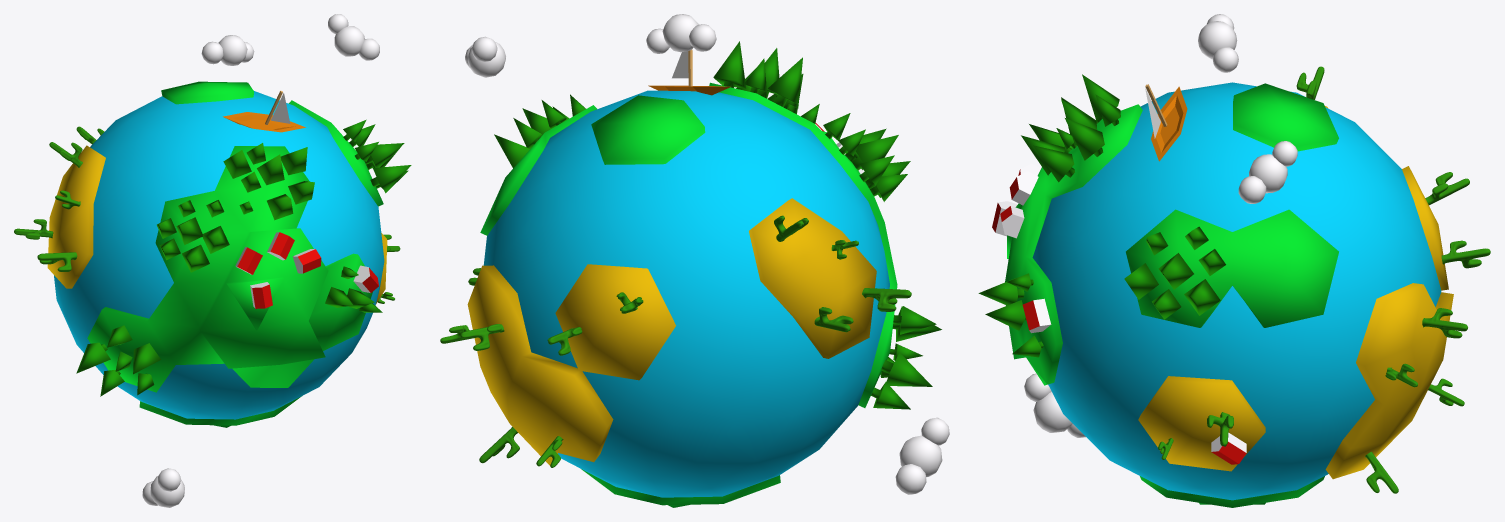
File: loginEarth.glb
The picture shows the model from 3 angles, left to right: view 1: azimuth 30°, elevation 25°; view 2: azimuth 150°, elevation 25°; view 3: azimuth 270°, elevation 25°; orthographic projection. The views are drawn at different scales.
Parts seen in each view (by area): view 1: 아이코스피어.001, 아이코스피어, boatBody, 아이코스피어.008, 아이코스피어.002, 아이코스피어.005, tree.016, tree.026, tree.023, tree.003, tree.002, house.005 (+13 smaller); view 2: 아이코스피어.001, 아이코스피어, 아이코스피어.005, tree.026, 아이코스피어.002, tree, tree.002, tree.014, 아이코스피어.007, 평면.003, 아이코스피어.008, tree.022 (+5 smaller); view 3: 아이코스피어.001, 아이코스피어, boatBody, 아이코스피어.002, 아이코스피어.008, 아이코스피어.005, tree.002, tree.005, 평면.005, house.002, tree.018, house.001 (+11 smaller).
Part boxes in pixels (x1,y1,x2,y2): 아이코스피어.001: (54, 91, 384, 419); 아이코스피어: (47, 81, 387, 427); boatBody: (223, 112, 305, 132); 아이코스피어.008: (334, 26, 364, 56); 아이코스피어.002: (218, 35, 247, 65); 아이코스피어.005: (150, 476, 184, 507); tree.016: (370, 165, 411, 191); tree.026: (76, 342, 110, 373); tree.023: (133, 343, 161, 374); tree.003: (257, 154, 284, 185); tree.002: (280, 147, 307, 175); house.005: (292, 249, 321, 273); 아이코스피어.001: (483, 90, 889, 497); 아이코스피어: (467, 82, 897, 507); 아이코스피어.005: (899, 435, 942, 477); tree.026: (881, 352, 932, 386); 아이코스피어.002: (662, 14, 698, 52); tree: (768, 57, 802, 107); tree.002: (713, 41, 746, 88); tree.014: (852, 135, 898, 170); 아이코스피어.007: (895, 464, 926, 494); 평면.003: (862, 288, 911, 311); 아이코스피어.008: (467, 42, 505, 77); tree.022: (893, 306, 936, 334); 아이코스피어.001: (1032, 82, 1441, 500); 아이코스피어: (1005, 83, 1453, 507); boatBody: (1151, 86, 1187, 161); 아이코스피어.002: (1198, 21, 1237, 59); 아이코스피어.008: (1249, 154, 1287, 193); 아이코스피어.005: (1033, 391, 1072, 432); tree.002: (1065, 118, 1104, 160); tree.005: (1033, 145, 1074, 182); 평면.005: (1441, 240, 1490, 268); house.002: (1211, 432, 1246, 464); tree.018: (1184, 279, 1220, 315); house.001: (1022, 298, 1051, 333).
Size of the model in its own units: 2.54 by 2.67 by 2.51.
